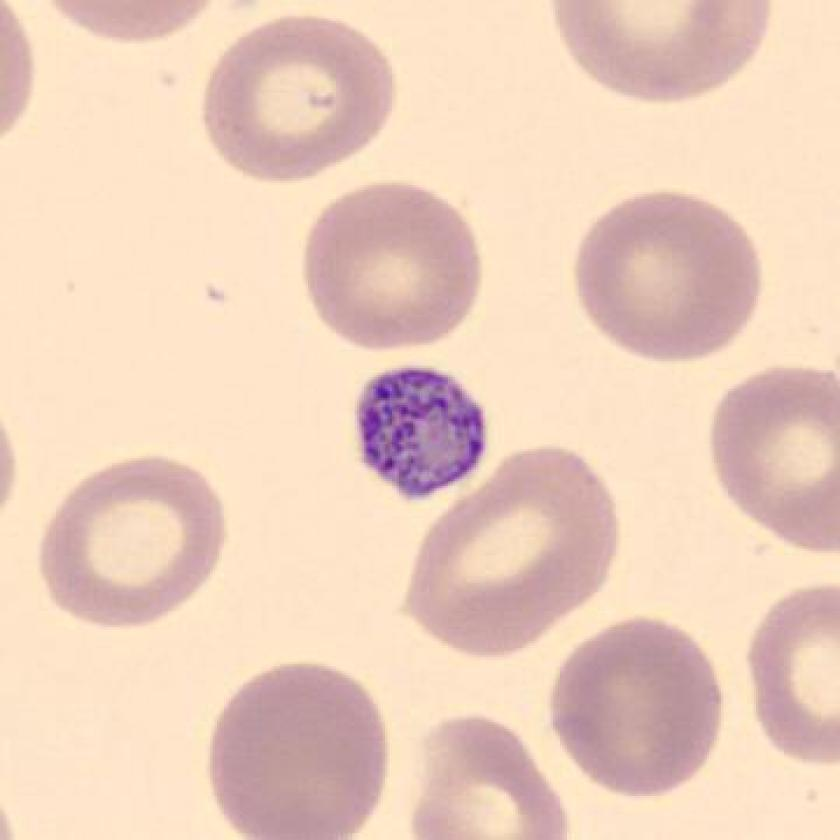platelets: (340, 360, 501, 515)
